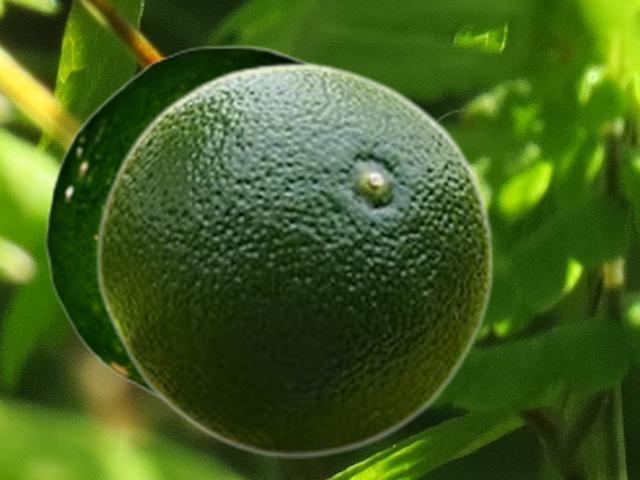calamansi: (94, 61, 494, 457), (44, 44, 318, 404)
